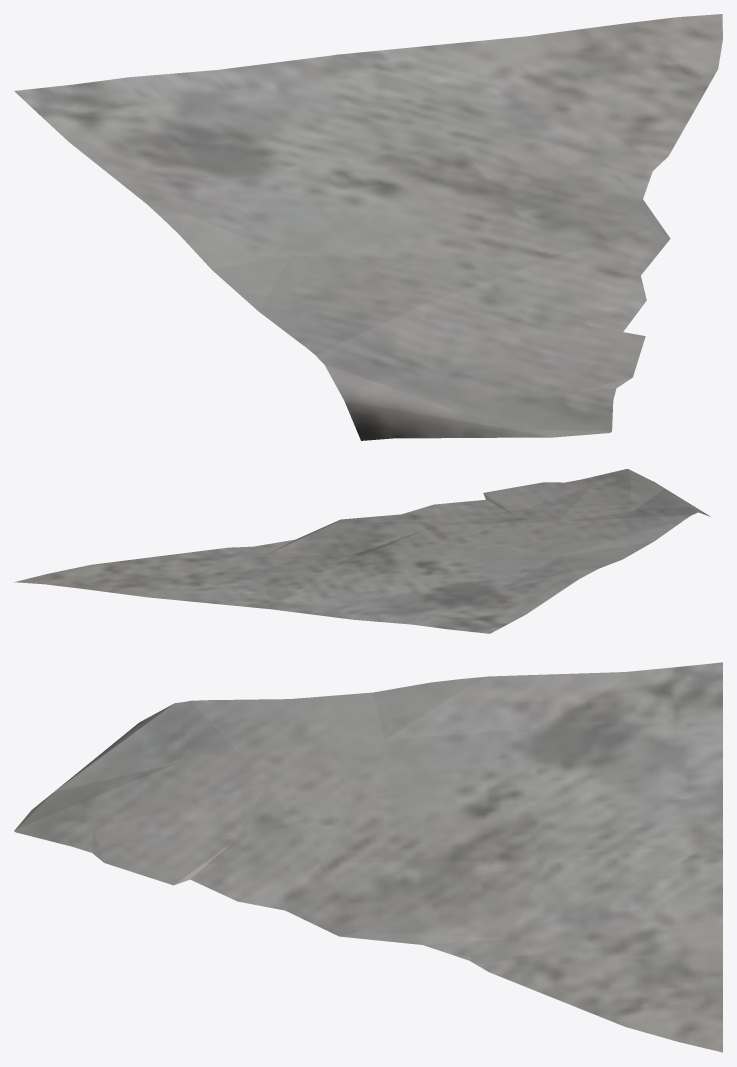
3 renders of one model, top to bottom at view 1: azimuth 30°, elevation 25°; view 2: azimuth 150°, elevation 25°; view 3: azimuth 270°, elevation 25°, orthographic. The views are drawn at different scales.
Bounding box in the file's own units: 0.3743 × 0.0484 × 0.3671.
Materials: 1 (1 with a texture image).
